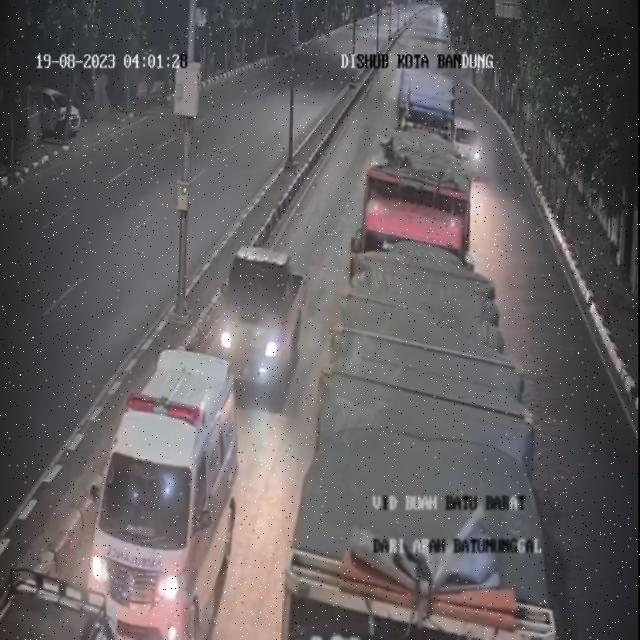cars: (96, 353, 240, 640), (452, 102, 488, 181)
truck: (282, 241, 540, 640), (351, 114, 467, 276), (231, 242, 301, 402), (0, 573, 115, 640), (394, 64, 452, 153)
